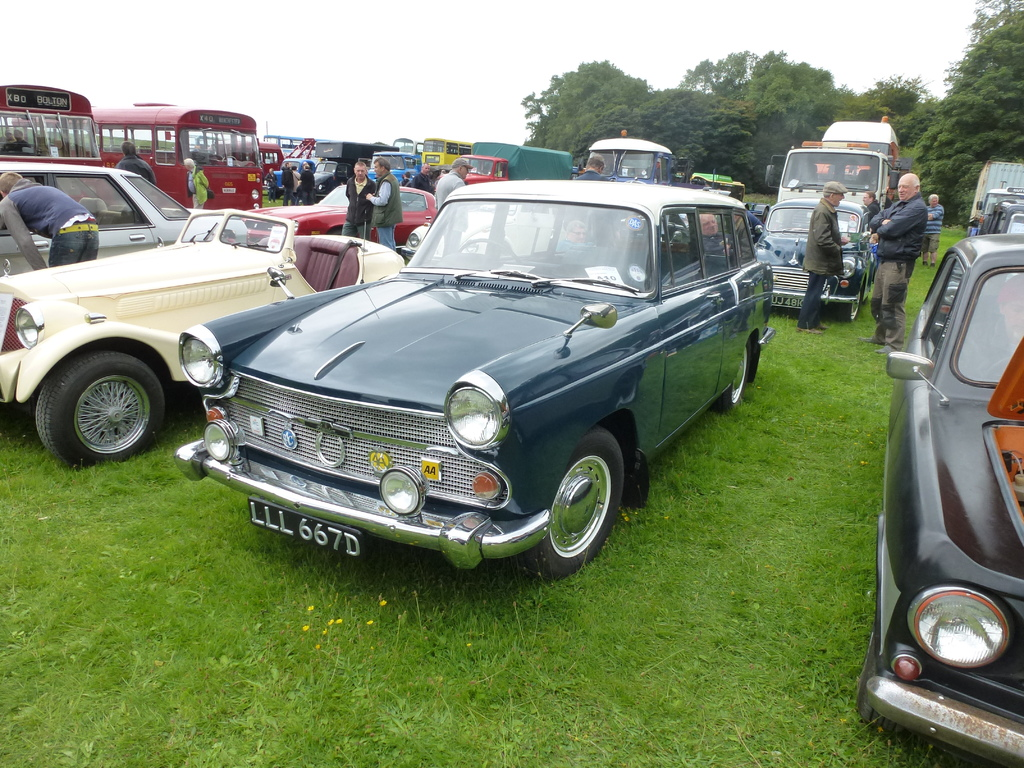Car: (157, 187, 771, 581), (0, 206, 408, 472), (858, 232, 1022, 767), (0, 161, 256, 275), (748, 195, 874, 318), (250, 186, 440, 240), (974, 206, 1023, 238)
